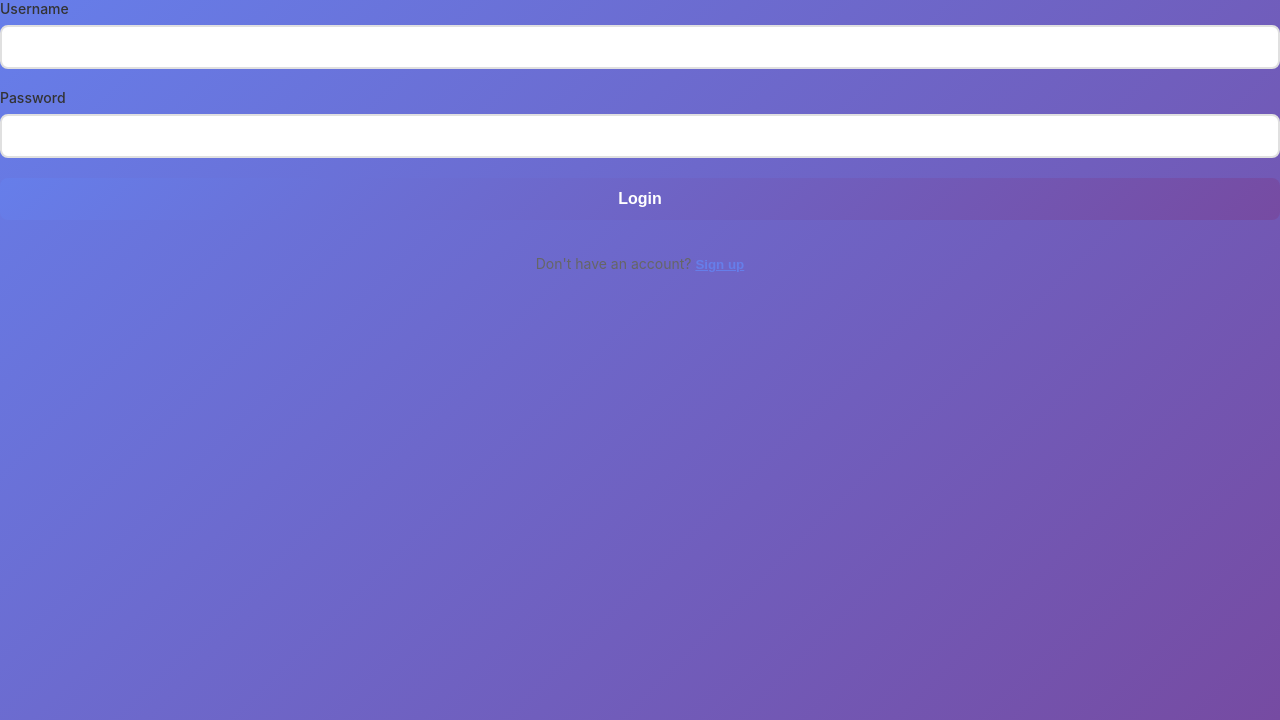
Scenario: Login Component › shows loading state during login
The image size is (1280, 720).
Type "testuser" into the field labelled "Username" at (640, 47), box [0,25,1279,69]
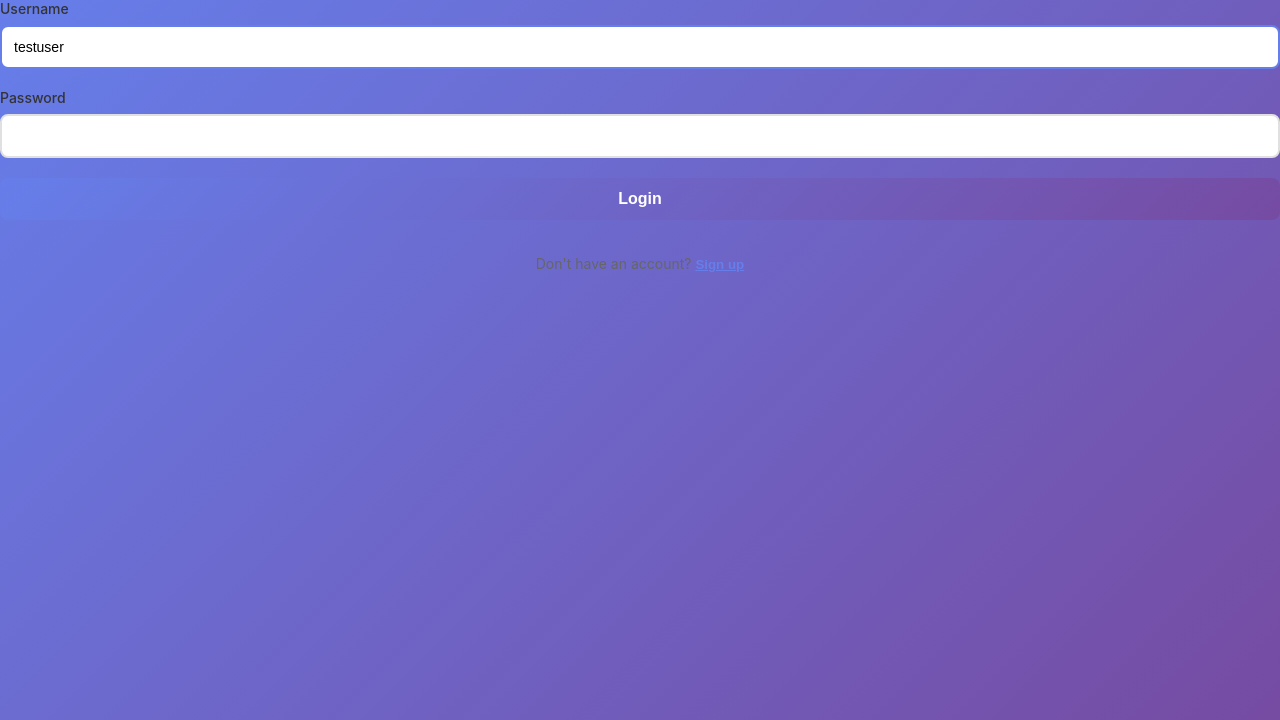
Type "testpass123" into the password field labelled "Password" at (640, 136), box [0,114,1279,158]
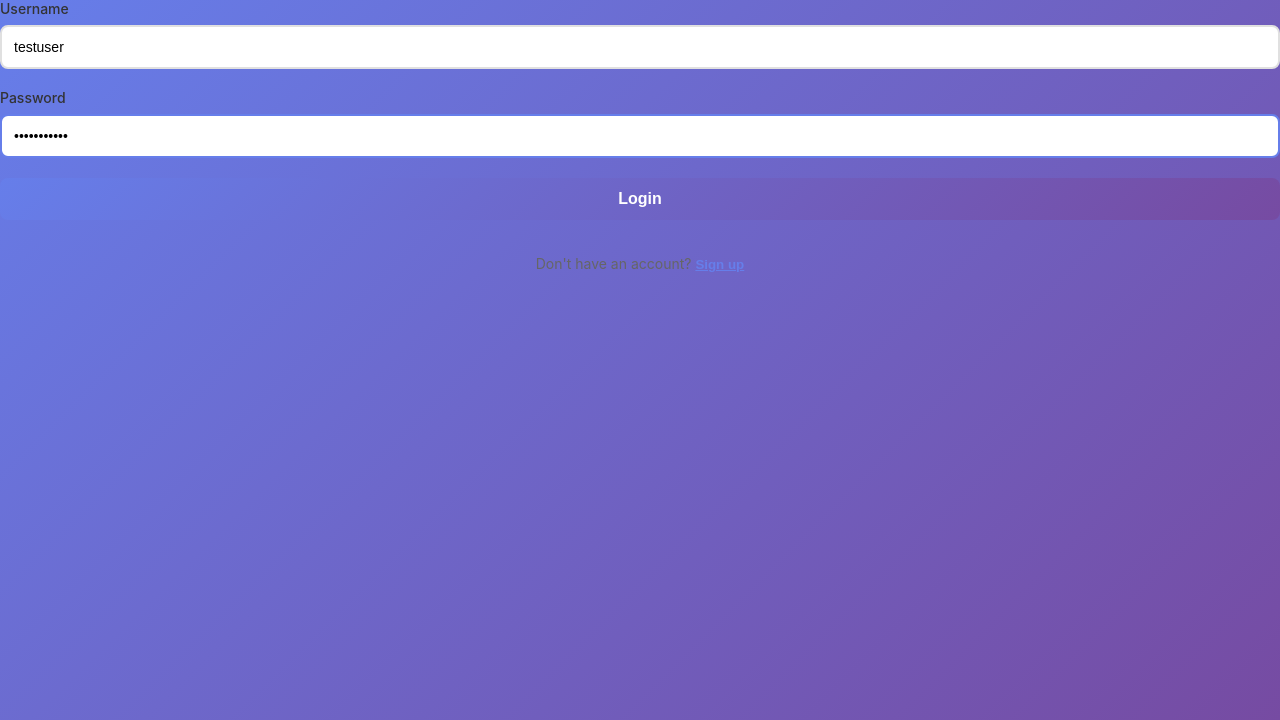
Click the button "Login" at (640, 199), box [0,178,1279,220]
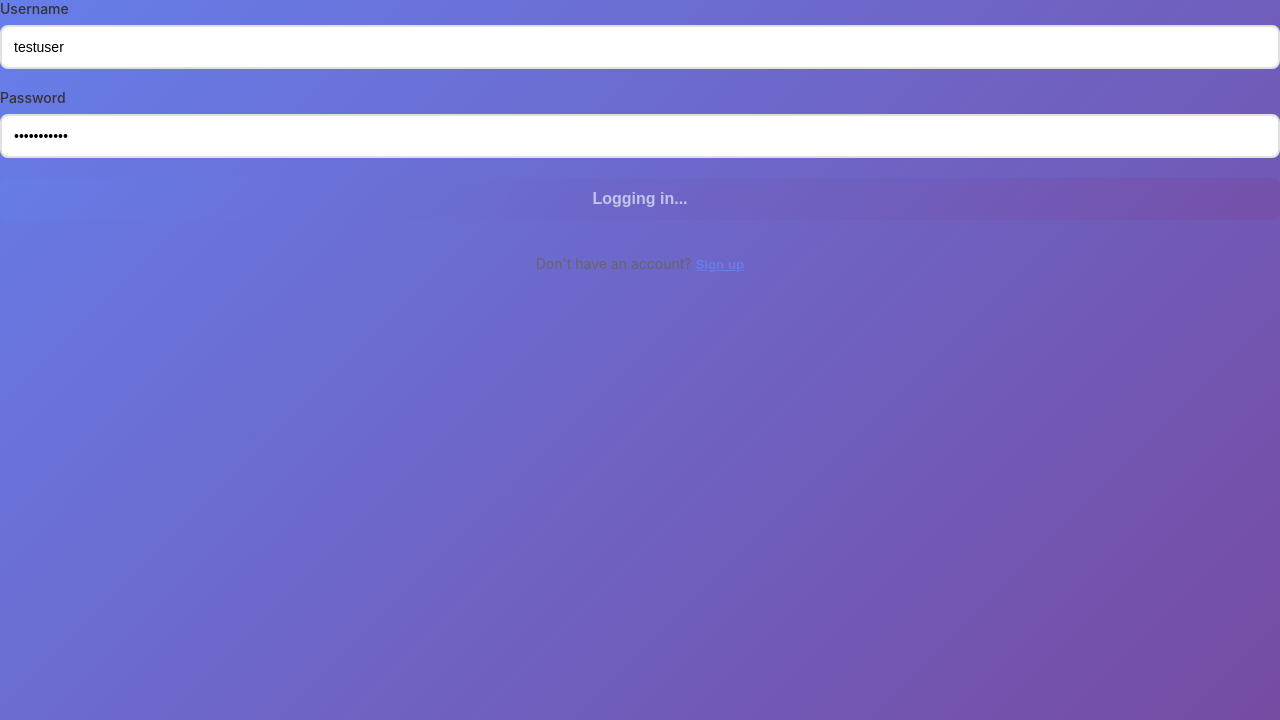
Expected: the button "Logging in..." is disabled, [0,178,1279,220]
